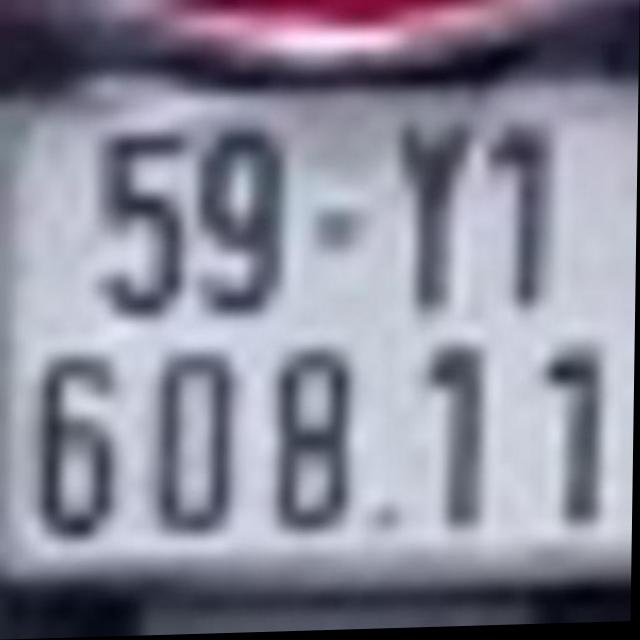0: (150, 336, 241, 537)
1: (487, 111, 567, 309), (541, 331, 611, 532), (425, 332, 493, 529)
5: (92, 115, 188, 328)
6: (41, 347, 119, 548)
8: (272, 340, 356, 538)
9: (196, 116, 290, 326)
Y: (407, 118, 483, 319)
